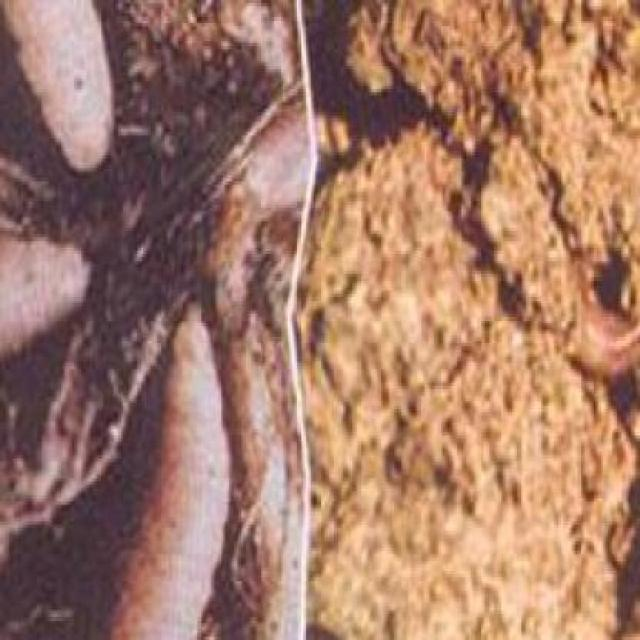whorl-maggot: (106, 315, 241, 637), (2, 16, 123, 167)
